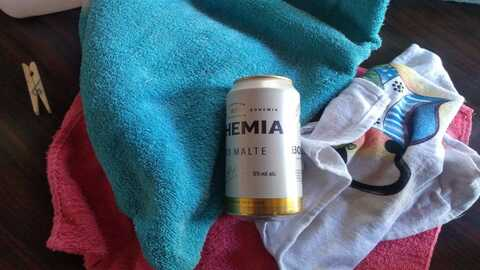bohemia: (225, 77, 306, 220)
